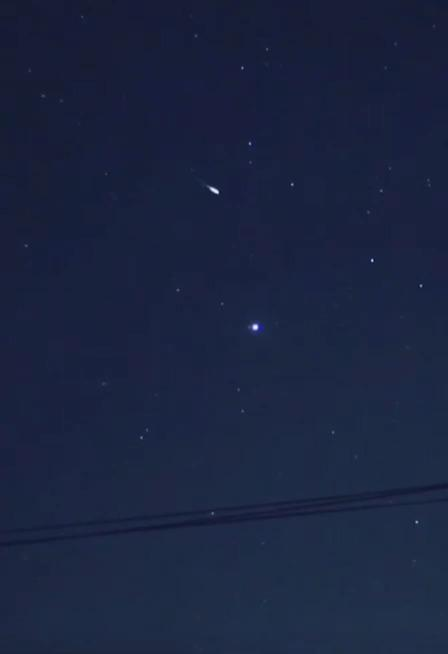meteorite: (188, 176, 231, 203)
